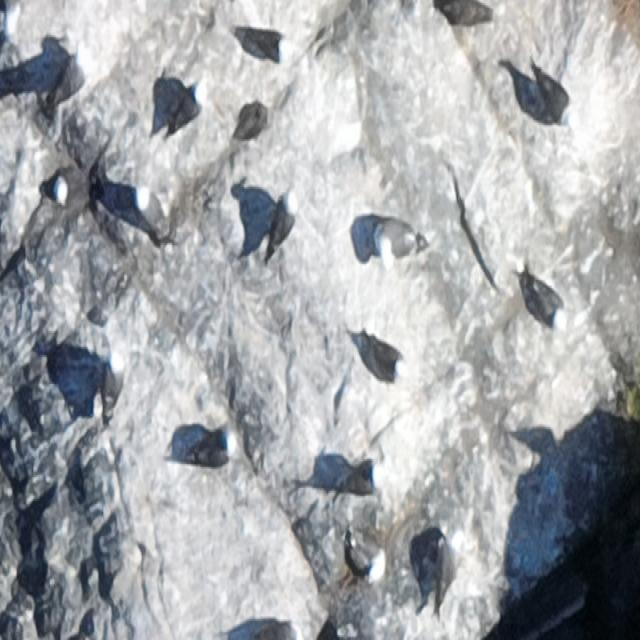umineko: (50, 37, 88, 108), (537, 69, 578, 132), (344, 530, 389, 585), (524, 273, 567, 330), (437, 527, 466, 611), (378, 217, 422, 272), (168, 76, 208, 136), (184, 429, 236, 472), (269, 185, 296, 262), (134, 188, 168, 238), (340, 459, 380, 497), (54, 167, 88, 204), (104, 349, 122, 416), (369, 343, 403, 377), (241, 34, 284, 59)
